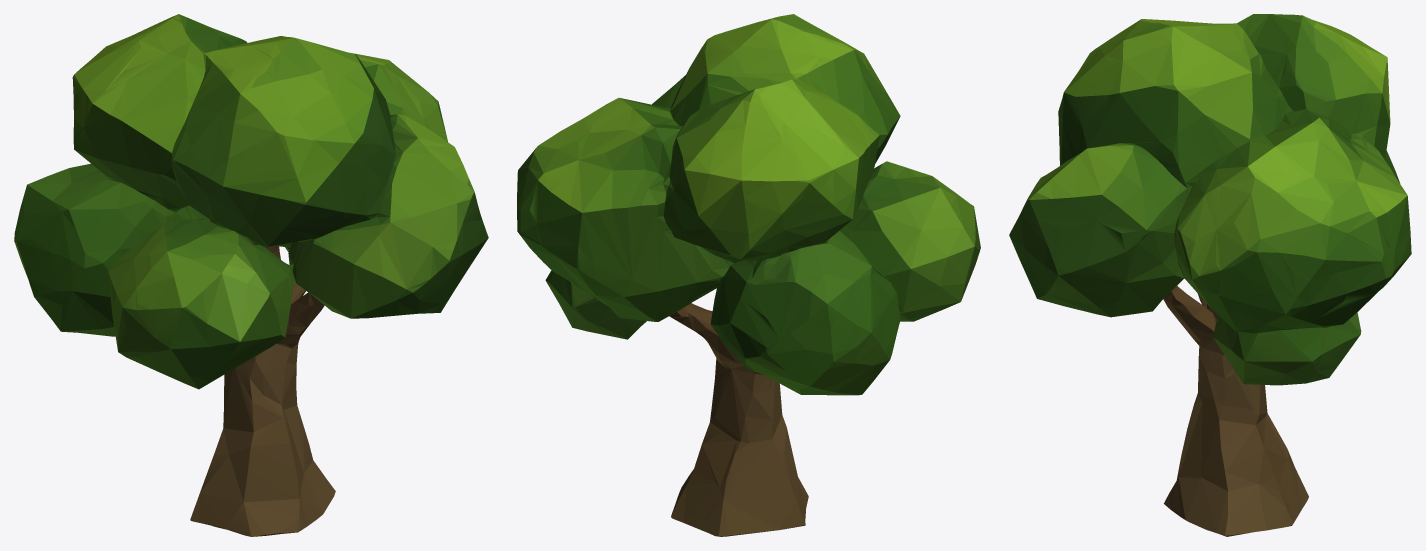
File: tree1_lod.glb
3 renders of one model, left to right at view 1: azimuth 30°, elevation 25°; view 2: azimuth 150°, elevation 25°; view 3: azimuth 270°, elevation 25°, orthographic. The views are drawn at different scales.
Parts seen in each view (by area): view 1: tree1_lod; view 2: tree1_lod; view 3: tree1_lod.
Part boxes in pixels (x1=…): tree1_lod: x1=14, y1=14, x2=488, y2=536; tree1_lod: x1=517, y1=14, x2=980, y2=536; tree1_lod: x1=1009, y1=14, x2=1411, y2=536.
Size of the model in its own units: 0.8314 by 1 by 0.7614.
Materials: 1 (1 with a texture image).
